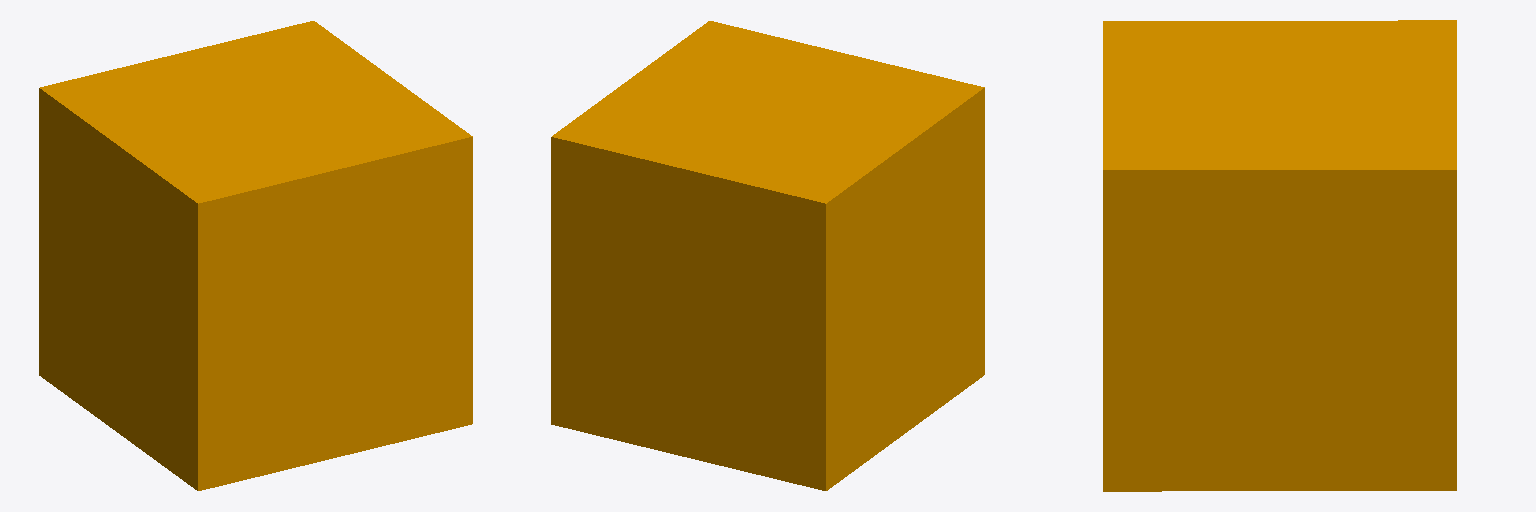
The robot description file, URDF, robot "left_arm":
<?xml version="1.0" ?>
<robot name="left_arm">

  <material name="skin">
    <color rgba="0.9 0.72 0.53 1.000"/>
  </material>

  <link name="base_link">
    <inertial>
      <origin xyz="0.0 0.0 0.0" rpy="0 0 0"/>
      <mass value="0.0"/>
      <inertia ixx="0.0" iyy="0.0" izz="0.0" ixy="0.0" iyz="0.0" ixz="0.0"/>
    </inertial>
  </link>

  <joint name="base_fixed" type="fixed">
    <origin rpy="0 0 0.0" xyz="0 0 0.0"/>
    <parent link="base_link"/>
    <child link="base_link_0"/>
  </joint>

  <link name="base_link_0">
    <inertial>
      <origin xyz="0.0 0.0 0.0" rpy="0 0 0"/>
      <mass value="0.0"/>
      <inertia ixx="0.0" iyy="0.0" izz="0.0" ixy="0.0" iyz="0.0" ixz="0.0"/>
    </inertial>
  </link>

  <link name="base_link_1">
    <inertial>
      <origin xyz="0.0 0.0 0.0" rpy="0 0 0"/>
      <mass value="0.0"/>
      <inertia ixx="0.0" iyy="0.0" izz="0.0" ixy="0.0" iyz="0.0" ixz="0.0"/>
    </inertial>
  </link>

  <link name="base_link_2">
    <inertial>
      <origin xyz="0.0 0.0 0.0" rpy="0 0 0"/>
      <mass value="0.0"/>
      <inertia ixx="0.0" iyy="0.0" izz="0.0" ixy="0.0" iyz="0.0" ixz="0.0"/>
    </inertial>
  </link>

    <link name="hand_x">
    <inertial>
      <origin xyz="0.0 0.0 0.0" rpy="0 0 0"/>
      <mass value="0.0"/>
      <inertia ixx="0.0" iyy="0.0" izz="0.0" ixy="0.0" iyz="0.0" ixz="0.0"/>
    </inertial>
  </link>

  <link name="upper_arm">
    <inertial>
      <origin xyz="0.00277 -0.00352 -0.098" rpy="0 0 0"/>
      <mass value="1.0"/>
      <inertia ixx="0.00691" iyy="0.00674" izz="0.00097" ixy="-6.65745e-06" iyz="-7.0718e-05" ixz="0.00015"/>
    </inertial>
    <visual>
      <origin xyz="0 0 0" rpy="0 0 0"/>
      <geometry>
        <mesh filename="meshes/left_upper_arm.stl" scale="1.0 1.0 1.0"/>
      </geometry>
      <material name="skin"/>
    </visual>
    <collision>
      <origin xyz="0 0 0" rpy="0 0 0"/>
      <geometry>
        <mesh filename="meshes/left_upper_arm.stl" scale="1.0 1.0 1.0"/>
      </geometry>
    </collision>
  </link>

  <link name="lower_arm">
    <inertial>
      <origin xyz="0.01457 9.28389e-05 -0.19143" rpy="0 0 0"/>
      <mass value="1.0"/>
      <inertia ixx="0.01712" iyy="0.01699" izz="0.00072" ixy="-5.34657e-05" iyz="-0.00071" ixz="0.00031"/>
    </inertial>
    <visual>
      <origin xyz="0.0 0.0 0.0" rpy="0 0 0"/>
      <geometry>
        <mesh filename="meshes/left_lower_arm_without_hand.stl" scale="1.0 1.0 1.0"/>
      </geometry>
      <material name="skin"/>
    </visual>
    <collision>
      <origin xyz="0.0 0.0 0.0" rpy="0 0 0"/>
      <geometry>
        <mesh filename="meshes/left_lower_arm_without_hand.stl" scale="1.0 1.0 1.0"/>
      </geometry>
    </collision>
  </link>

  <link name="hand">
    <inertial>
      <origin xyz="0.16051 -0.012319 0.075256" rpy="0 0 0"/>
      <mass value="1.0"/>
      <inertia ixx="0.01712" iyy="0.01699" izz="0.00072" ixy="-5.34657e-05" iyz="-0.00071" ixz="0.00031"/>
    </inertial>
    <visual>
      <origin xyz="0.0 0.0 0.0" rpy="0 0 0"/>
      <geometry>
        <mesh filename="meshes/left_hand.stl" scale="1.0 1.0 1.0"/>
      </geometry>
      <material name="skin"/>
    </visual>
    <collision>
      <origin xyz="0.0 0.0 0.0" rpy="0 0 0"/>
      <geometry>
        <mesh filename="meshes/left_hand.stl" scale="1.0 1.0 1.0"/>
      </geometry>
    </collision>
  </link>

  <joint name="base_x" type="continuous">
    <origin xyz="0.0 0.0 0.0" rpy="0 0 0"/>
    <parent link="base_link_0"/>
    <child link="base_link_1"/>
    <axis xyz="1.0 0.0 0.0"/>
    <!-- <limit effort="100" lower="-1.57" upper="1.57" velocity="5.0"/> -->
  </joint>

  <joint name="base_y" type="continuous">
    <origin xyz="0.0 0.0 0.0" rpy="0 0 0"/>
    <parent link="base_link_1"/>
    <child link="base_link_2"/>
    <axis xyz="0.0 1.0 0.0"/>
    <!-- <limit effort="100" lower="-1.57" upper="0" velocity="5.0"/> -->
  </joint>

  <joint name="base_z" type="continuous">
    <origin xyz="0.0 0.0 0.0" rpy="0 0 0"/>
    <parent link="base_link_2"/>
    <child link="upper_arm"/>
    <axis xyz="0.0 0.0 1.0"/>
    <!-- <limit effort="100" lower="0.0" upper="1.57" velocity="5.0"/> -->
  </joint>

  <joint name="upper_to_lower" type="continuous">
    <origin xyz="0.0 0.0 -0.24102" rpy="0 0 -1.57"/>
    <parent link="upper_arm"/>
    <child link="lower_arm"/>
    <axis xyz="0.0 1.0 0.0"/>
    <!-- <limit effort="100" lower="-2.0944" upper="0.0" velocity="5.0"/> -->
  </joint>


  <joint name="lower_to_hand_x" type="fixed">
    <origin xyz="0.0 0.0 -0.296366" rpy="0 0 0"/>
    <parent link="lower_arm"/>
    <child link="hand_x"/>
    <!-- <axis xyz="1.0 0.0 0.0"/> -->
    <!-- <limit effort="100" lower="-2.0944" upper="0.0" velocity="5.0"/> -->
  </joint>


  <joint name="lower_to_hand" type="fixed">
    <origin xyz="0.0 0.0 0.0" rpy="0 0 0"/>
    <parent link="hand_x"/>
    <child link="hand"/>
    <!-- <axis xyz="0.0 1.0 0.0"/> -->
    <!-- <limit effort="100" lower="-2.0944" upper="0.0" velocity="5.0"/> -->
  </joint>



  <joint name="grasp_fixed_joint" type="fixed">
    <parent link="hand"/>
    <child link="ee_link"/>
    <origin rpy="0.0 0.0 0.0" xyz="0.07 0.0 0.03"/>
  </joint>

  <link name="ee_link">
    <inertial>
      <origin xyz="0.0 0.0 0.0" rpy="0 0 0"/>
      <mass value="0.0"/>
      <inertia ixx="0.0" iyy="0.0" izz="0.0" ixy="0.0" iyz="0.0" ixz="0.0"/>
    </inertial>
    <visual>
      <geometry>
        <box size="0.01 0.01 0.01"/>
      </geometry>
      <origin rpy="0 0 0" xyz="0.0 0 0"/>
    </visual>
  </link>

</robot>

--- Render facts (derived) ---
Views: 3 orthographic renders of the robot side by side, from view 1: azimuth 30°, elevation 25°; view 2: azimuth 150°, elevation 25°; view 3: azimuth 270°, elevation 25°.
Robot: left_arm — 9 links, 8 joints (4 continuous, 4 fixed); root link base_link; default pose: all joints at 0.
Links seen in each view (by area): view 1: ee_link; view 2: ee_link; view 3: ee_link.
Link boxes in pixels (x1,y1,x2,y2): ee_link: (39,21,472,490); ee_link: (551,21,984,490); ee_link: (1103,20,1456,491).
Bounding box of the posed robot: 0.01 × 0.01 × 0.01 m (x, y, z).
Meshes: 3 distinct files referenced, 0 mesh visuals loaded (none loaded); not drawn: 3 (reference not matched to a file when rendering).